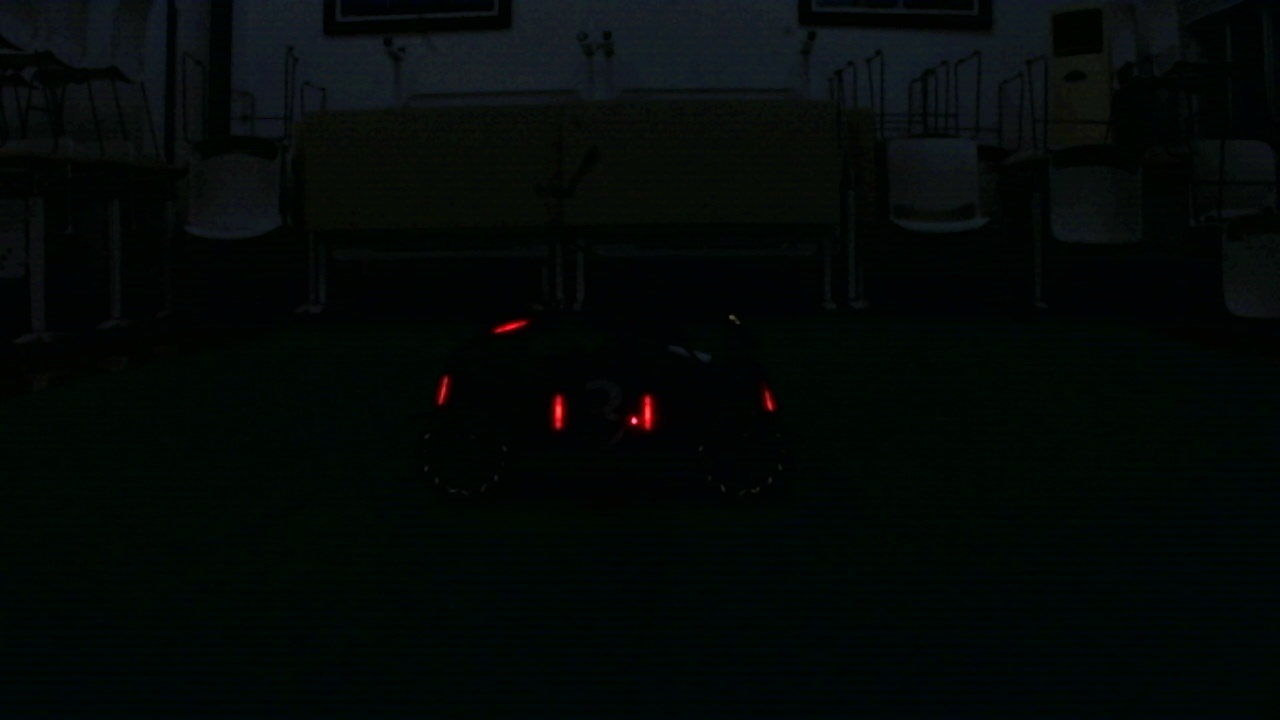lamp: (552, 395, 566, 436), (641, 396, 655, 432), (437, 375, 449, 408), (763, 384, 774, 414)
pair1: (554, 395, 652, 426)
